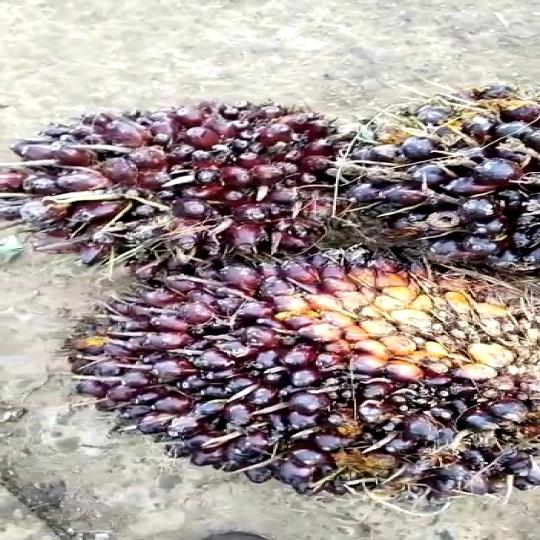kurang masak: (63, 241, 540, 491), (1, 92, 369, 251), (352, 84, 540, 282)
